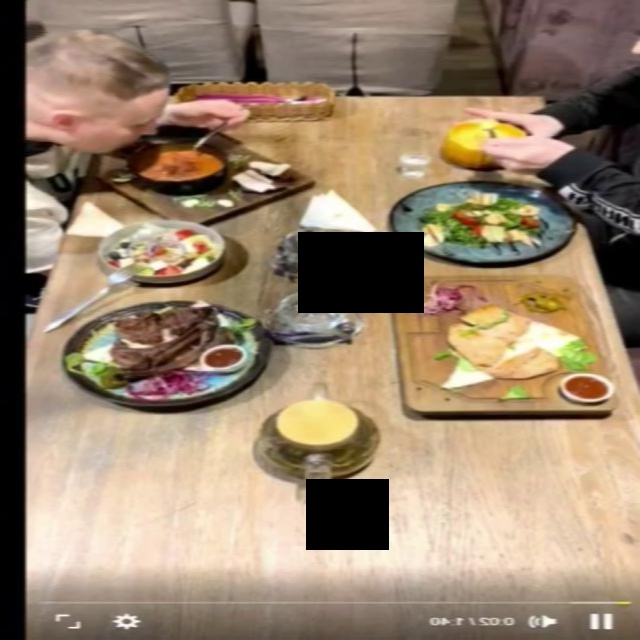meat: (392, 275, 618, 415), (60, 300, 273, 408)
salad: (390, 182, 578, 265), (95, 220, 225, 285)
soup: (96, 131, 316, 226), (461, 90, 541, 179)
tea: (237, 380, 391, 486)
